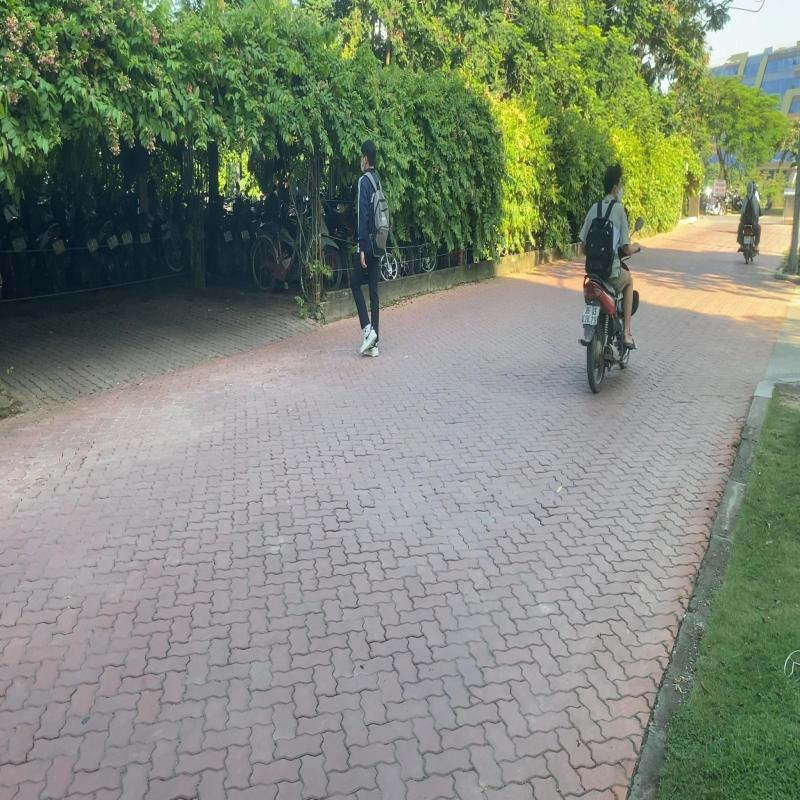licenseplate: (580, 302, 602, 328)
motorcyclist: (576, 159, 647, 397)
nohelmet: (600, 160, 628, 206)
